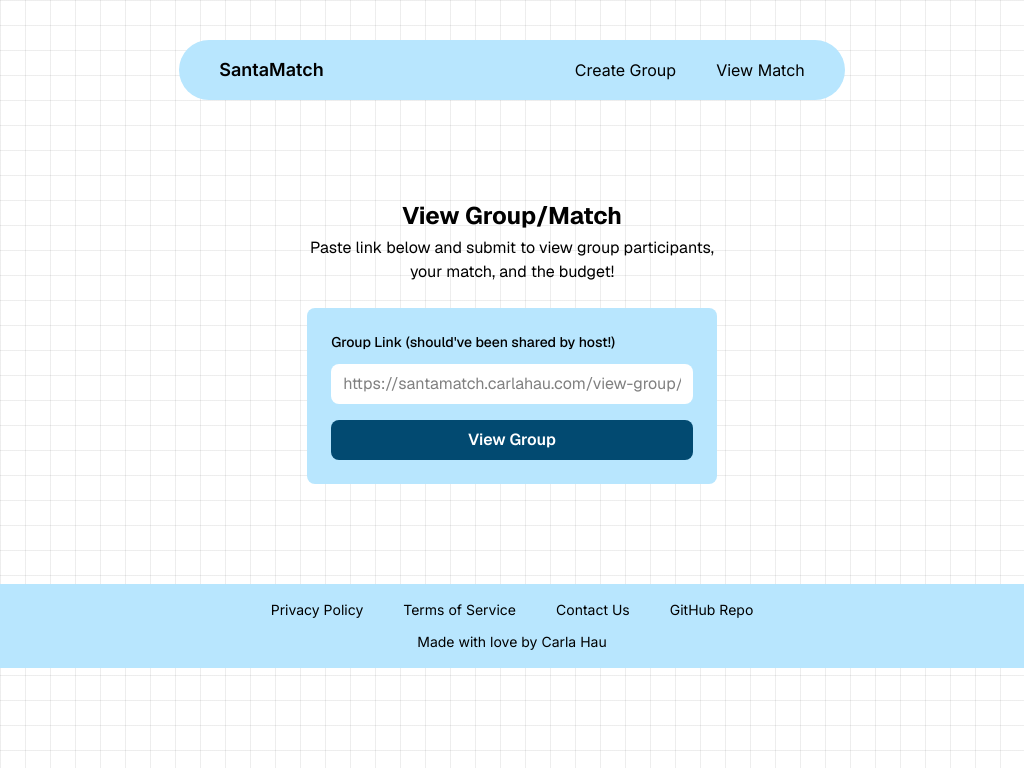
View Match Page › should validate required URL before submission
Type "invalid link" into the field with test id "viewMatchLink" at coordinates (512, 384), box left=331, top=364, right=693, bottom=404
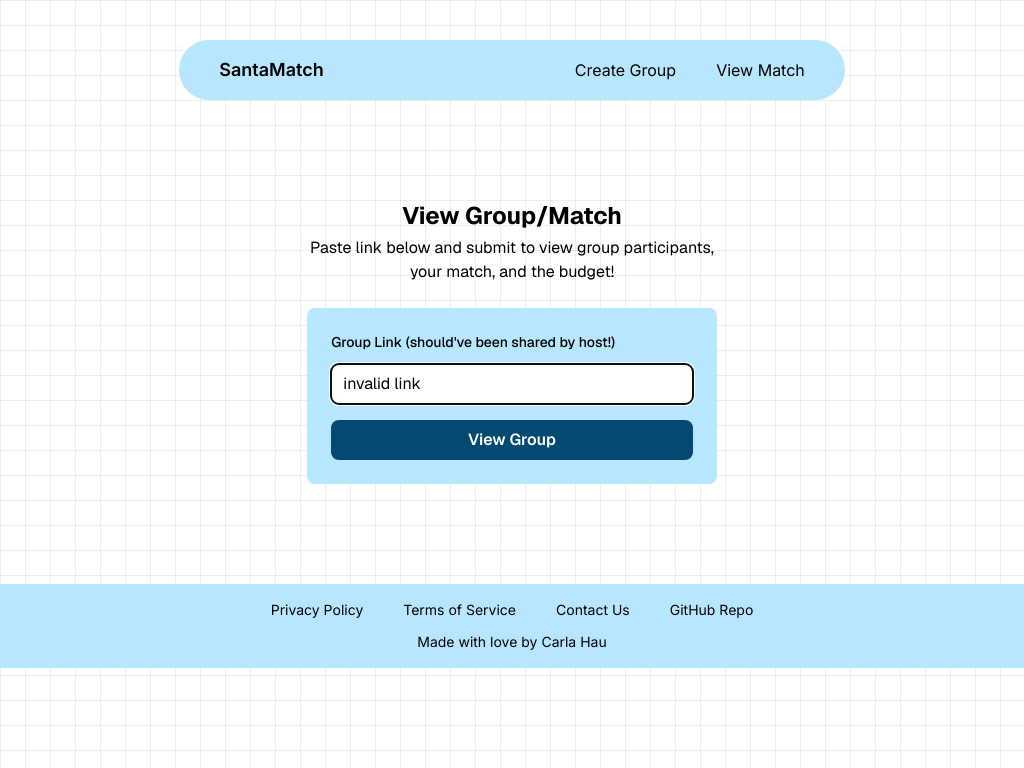
Click the button with test id "viewGroupBtn" at coordinates (512, 440), box left=331, top=420, right=693, bottom=460
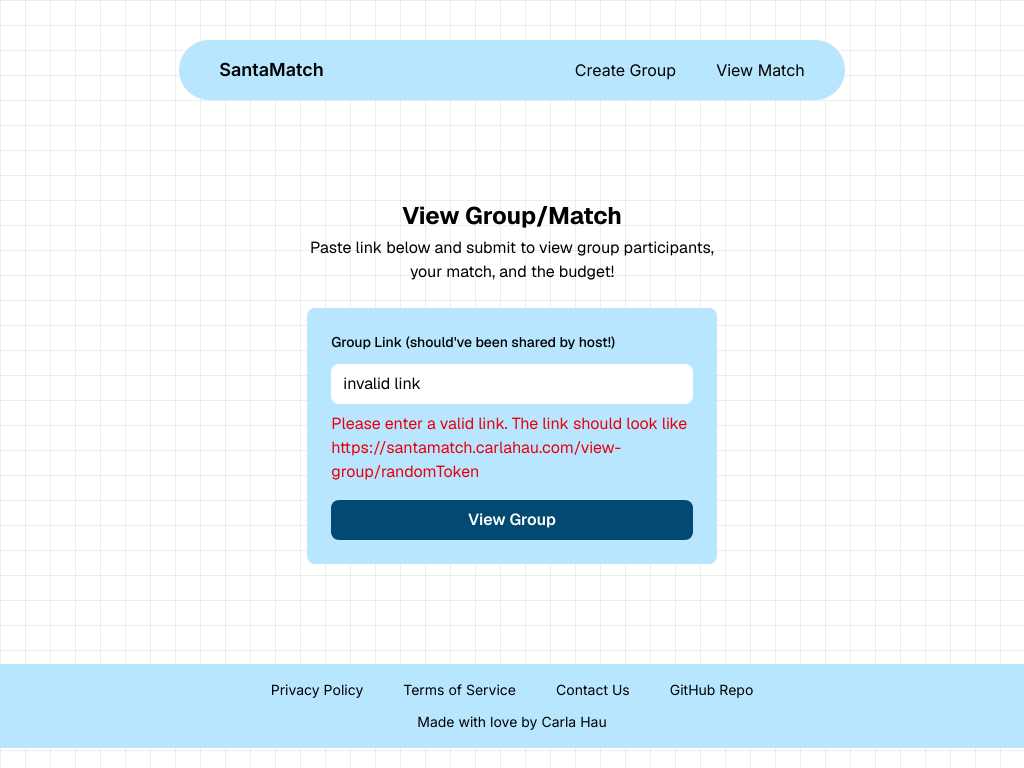
Expected: the text "Please enter a valid link. The link should look like https://santamatch.carlahau.com/view-group/randomToken" is shown, left=331, top=413, right=687, bottom=482
